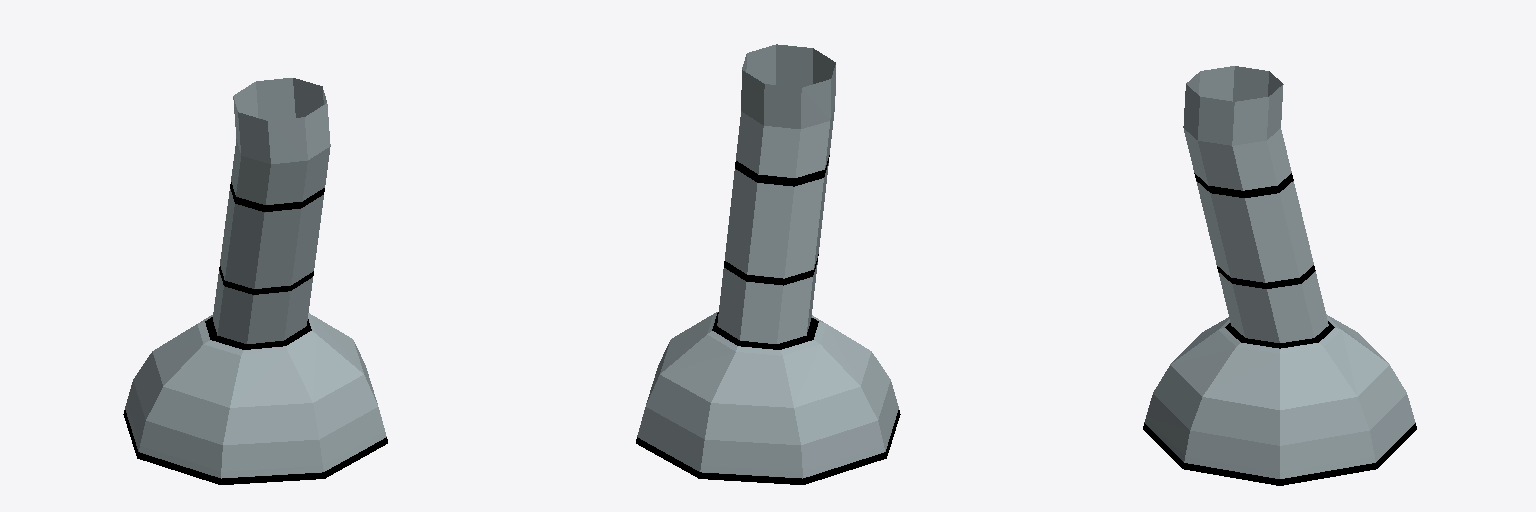
The picture shows the model from 3 angles: view 1: azimuth 30°, elevation 25°; view 2: azimuth 150°, elevation 25°; view 3: azimuth 270°, elevation 25°; orthographic projection.
Visible parts, largest first — view 1: Pierna1_1; view 2: Pierna1_1; view 3: Pierna1_1.
Part boxes in pixels (x1,y1,x2,y2): Pierna1_1: (123, 78, 387, 484); Pierna1_1: (636, 44, 900, 484); Pierna1_1: (1143, 66, 1416, 485).
Size of the model in its own units: 0.541 by 0.7632 by 0.541.
Materials: 2 (1 with a texture image).